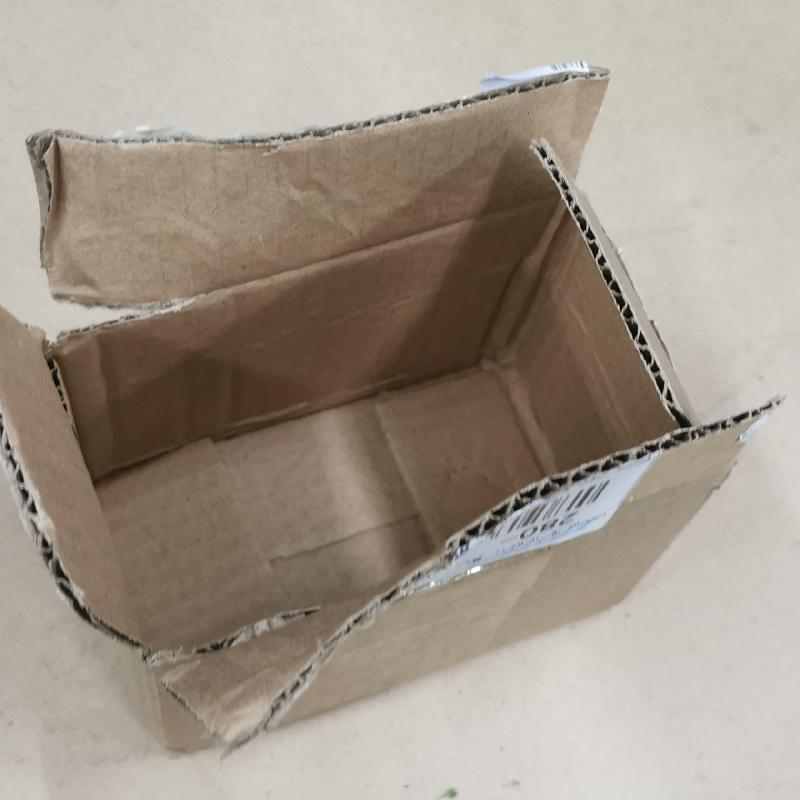boxes: (1, 60, 787, 761)
